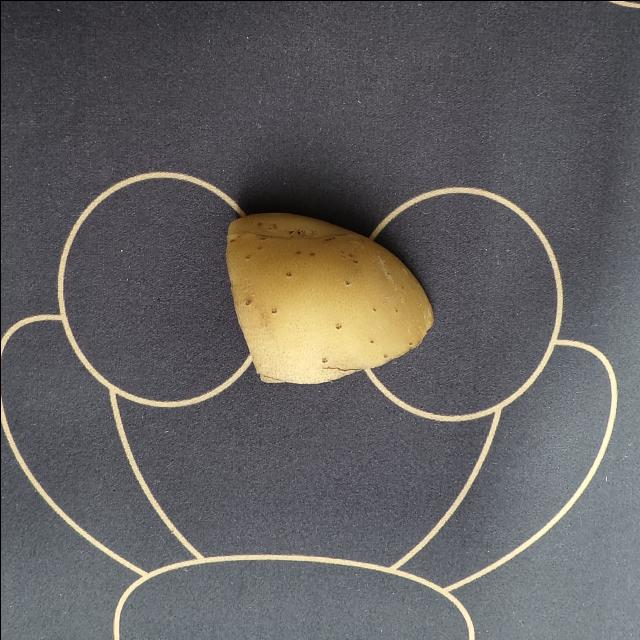-Kitchen waste - potato-: (221, 206, 439, 391)
